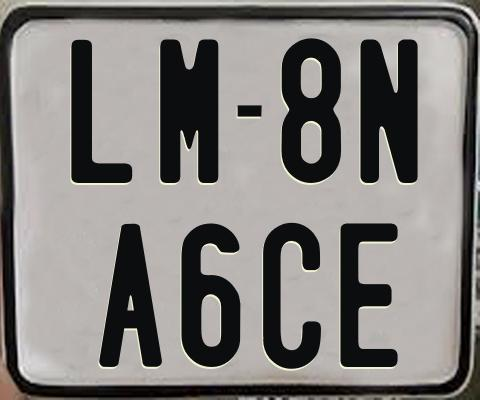6: (179, 222, 241, 366)
8: (281, 37, 346, 184)
A: (96, 221, 159, 364)
C: (262, 221, 321, 370)
E: (339, 220, 399, 370)
L: (71, 40, 132, 189)
M: (159, 38, 220, 183)
N: (358, 39, 422, 183)
